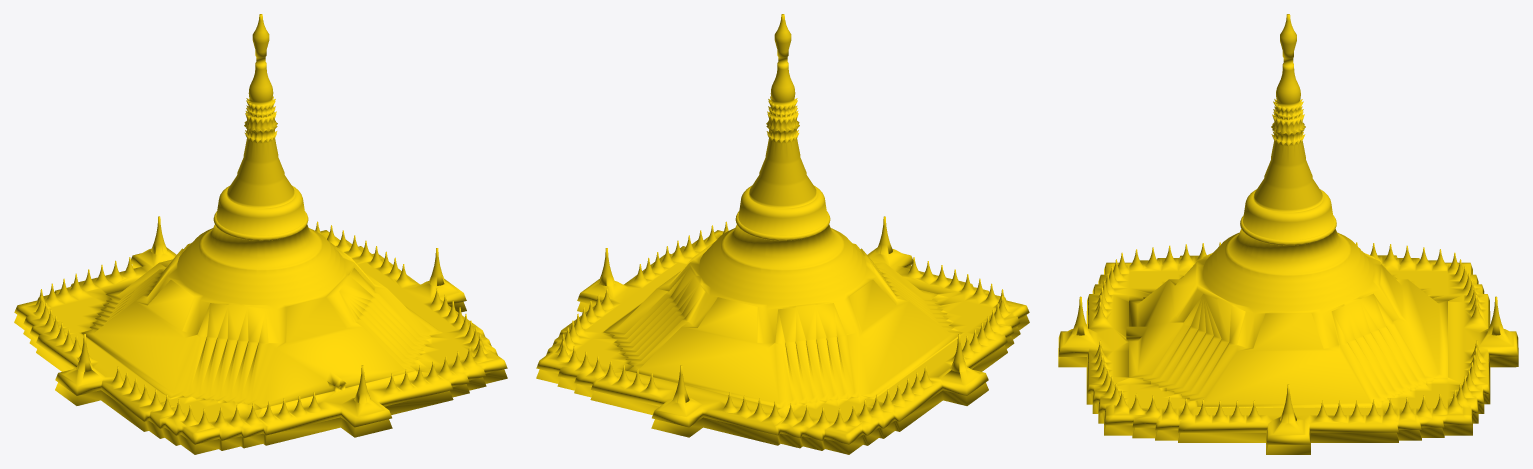
Rendered from shwedagon_pagoda.fbx.
3 renders of one model, left to right at view 1: azimuth 30°, elevation 25°; view 2: azimuth 150°, elevation 25°; view 3: azimuth 270°, elevation 25°, orthographic. The views are drawn at different scales.
Visible parts, largest first — view 1: shwedagon-pagoda-myanmar-miniworld3d; view 2: shwedagon-pagoda-myanmar-miniworld3d; view 3: shwedagon-pagoda-myanmar-miniworld3d.
Boxes of the visible parts, x1,y1,x2,y2 form: shwedagon-pagoda-myanmar-miniworld3d: [14, 14, 507, 454]; shwedagon-pagoda-myanmar-miniworld3d: [536, 14, 1029, 454]; shwedagon-pagoda-myanmar-miniworld3d: [1058, 14, 1518, 454].
Bounding box in the file's own units: 224 × 185 × 224.
